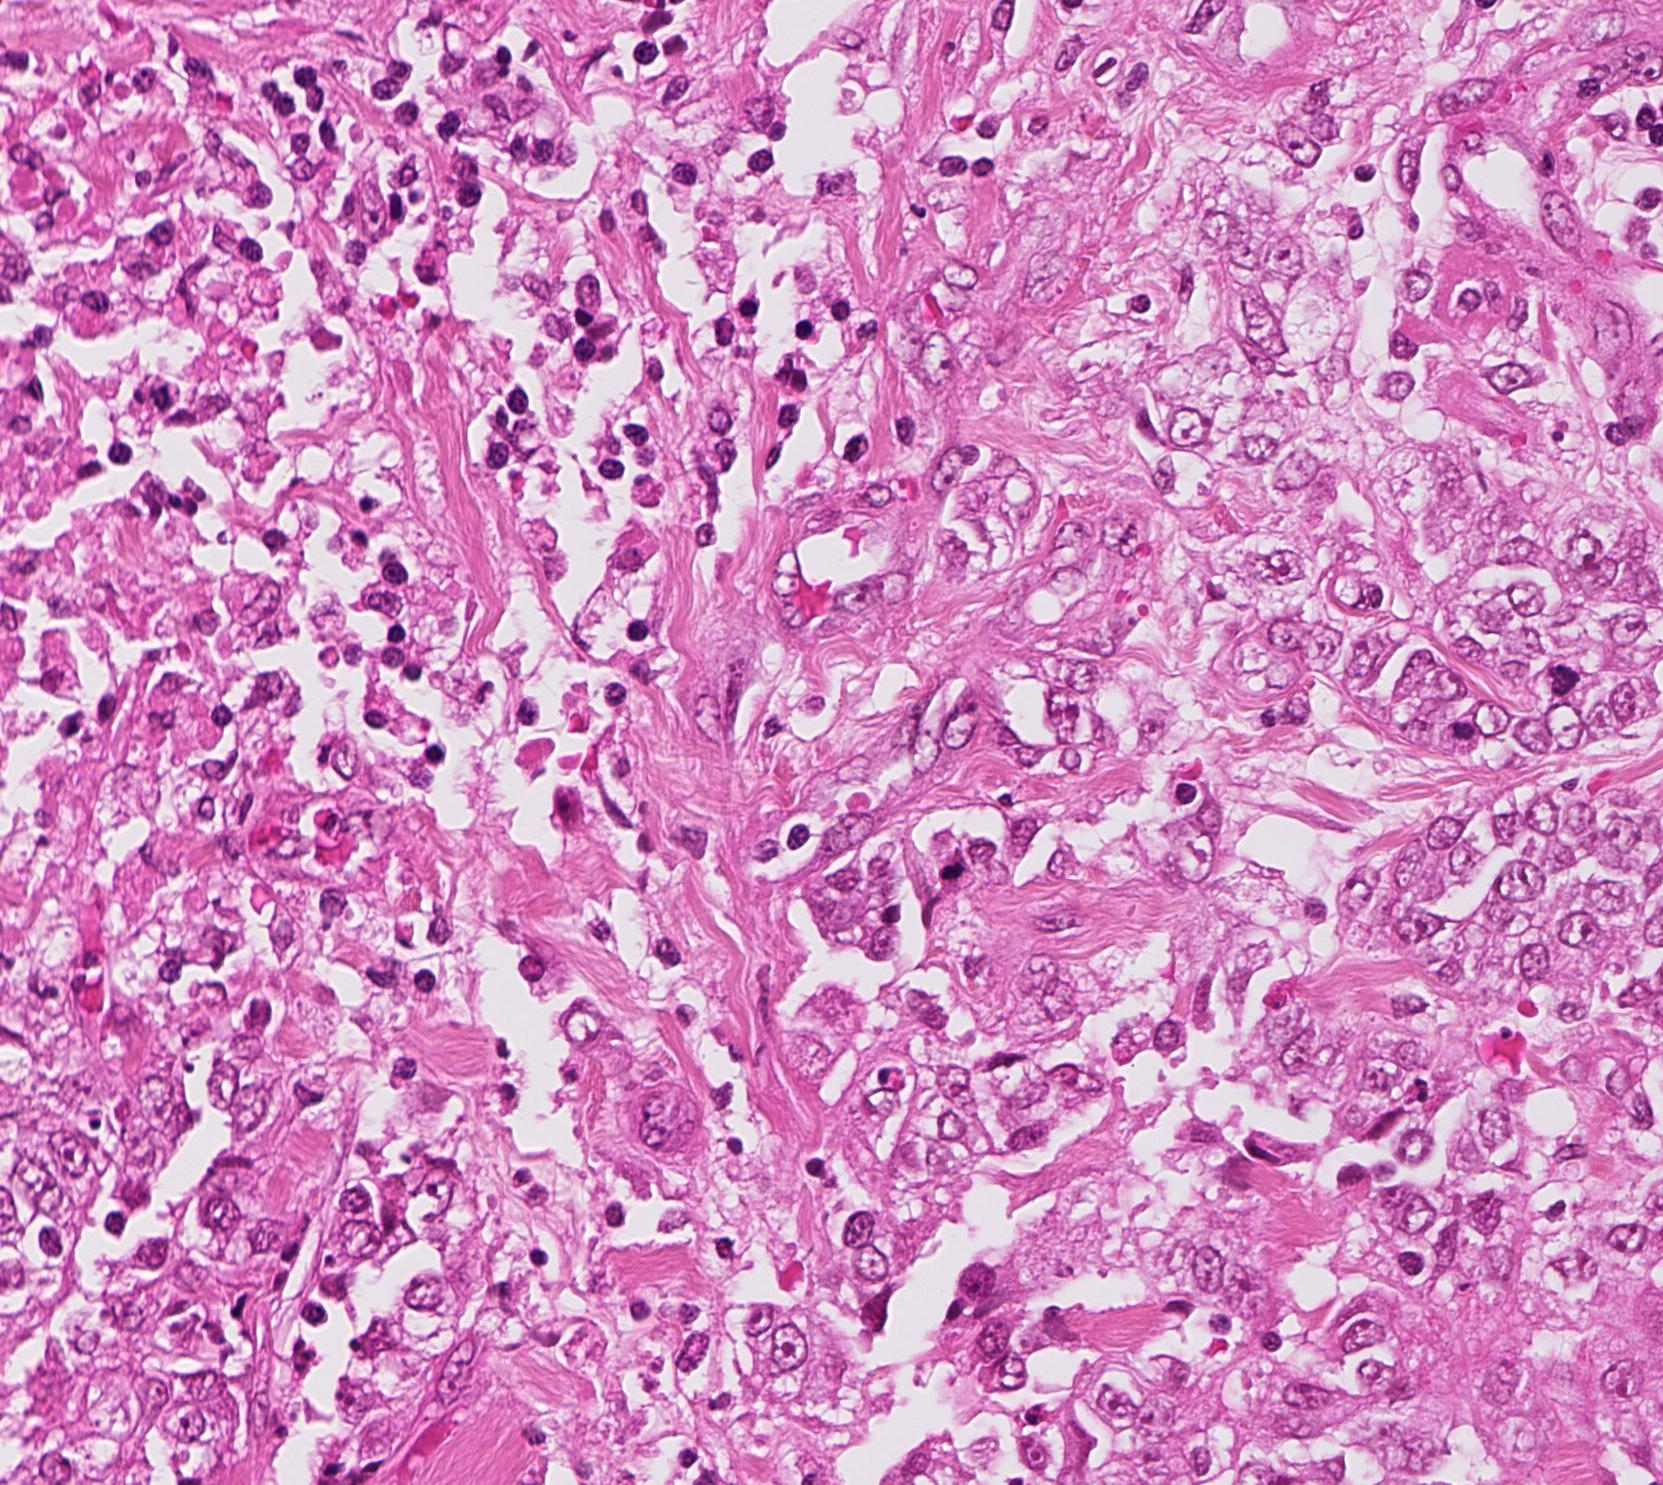mitosis: (1535, 652, 1596, 712)
